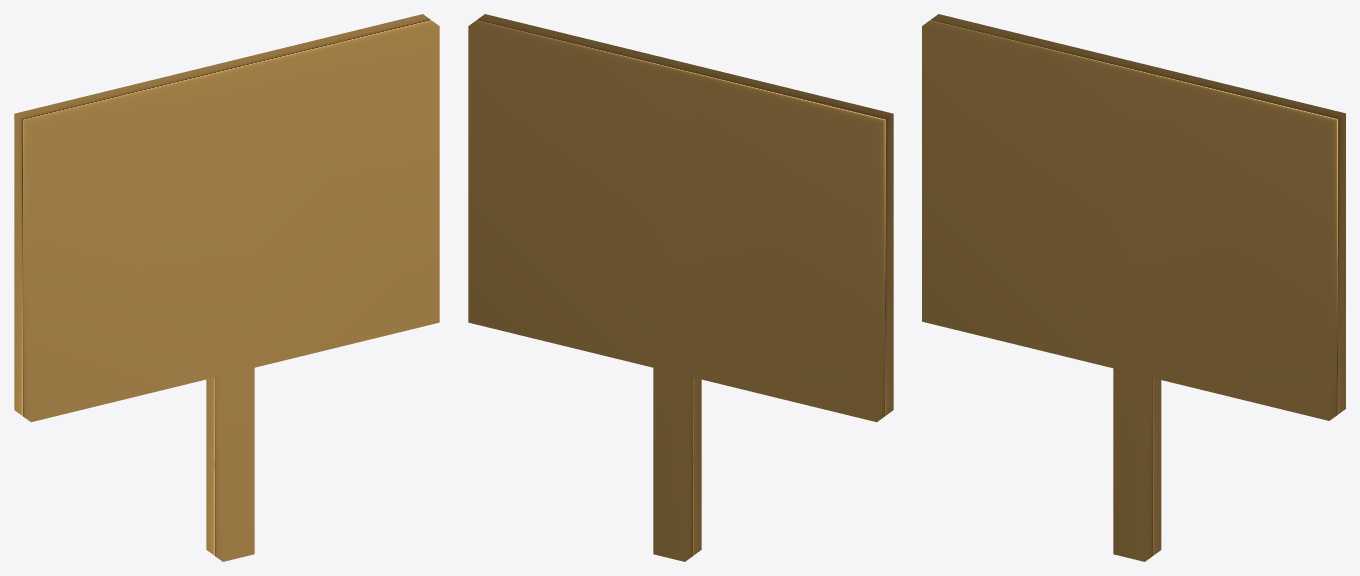
Rendered from cartel.fbx.
3 renders of one model, left to right at view 1: azimuth 30°, elevation 25°; view 2: azimuth 150°, elevation 25°; view 3: azimuth 330°, elevation 25°, orthographic.
Parts seen in each view (by area): view 1: Cube; view 2: Cube; view 3: Cube.
Part boxes in pixels (box(x1,y1,x2,y2)): Cube: box(14, 14, 439, 561); Cube: box(468, 14, 893, 561); Cube: box(922, 14, 1345, 561).
Bounding box in the file's own units: 601 × 679 × 42.38.
